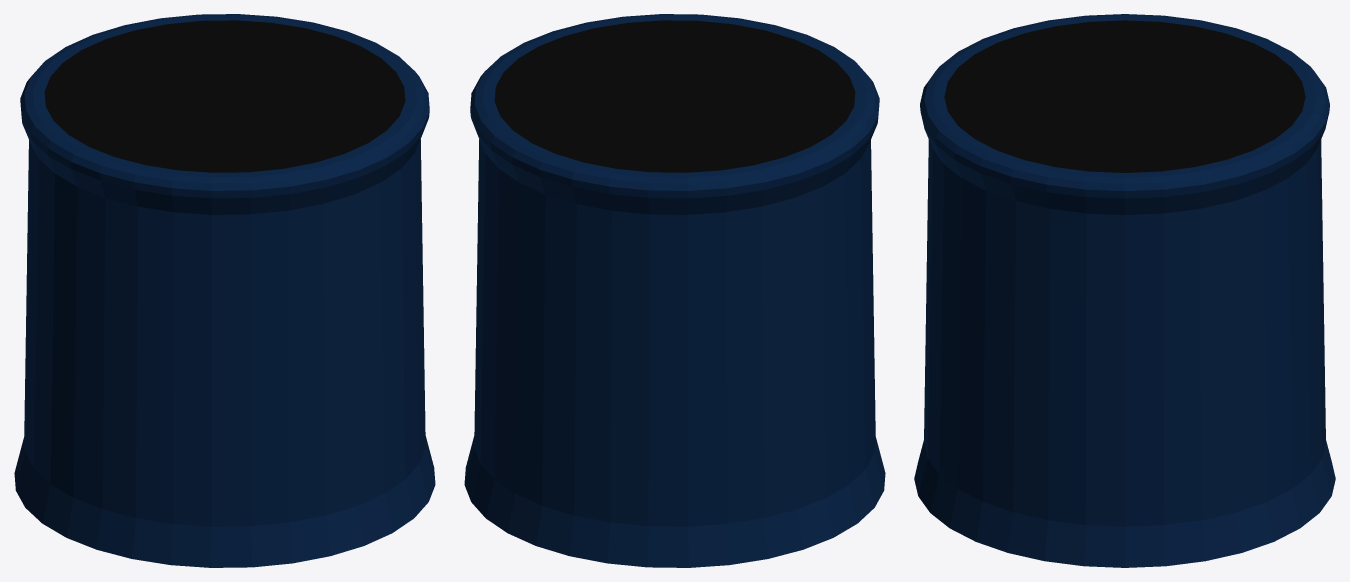
File: can.obj
3 renders of one model, left to right at view 1: azimuth 30°, elevation 25°; view 2: azimuth 150°, elevation 25°; view 3: azimuth 270°, elevation 25°, orthographic.
Parts seen in each view (by area): view 1: Cylinder; view 2: Cylinder; view 3: Cylinder.
Part boxes in pixels (<box>): Cylinder: <box>14,14,435,567</box>; Cylinder: <box>464,14,885,567</box>; Cylinder: <box>914,14,1335,567</box>.
Size of the model in its own units: 2 by 2 by 2.
